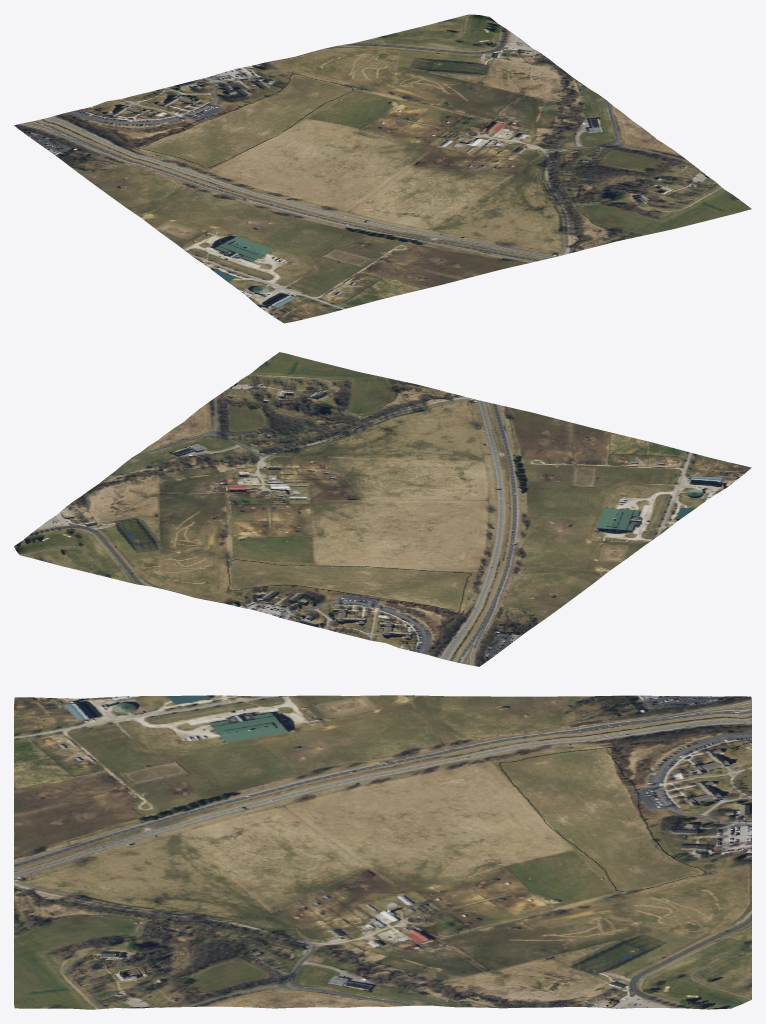
Rendered from heightmap.dae.
The picture shows the model from 3 angles, top to bottom: view 1: azimuth 30°, elevation 25°; view 2: azimuth 150°, elevation 25°; view 3: azimuth 270°, elevation 25°; orthographic projection. The views are drawn at different scales.
Parts seen in each view (by area): view 1: Plane; view 2: Plane; view 3: Plane.
Part boxes in pixels (<box>): Plane: <box>14,14,751,323</box>; Plane: <box>14,352,751,666</box>; Plane: <box>14,695,751,1009</box>.
Size of the model in its own units: 2046 by 2046 by 27.69.
